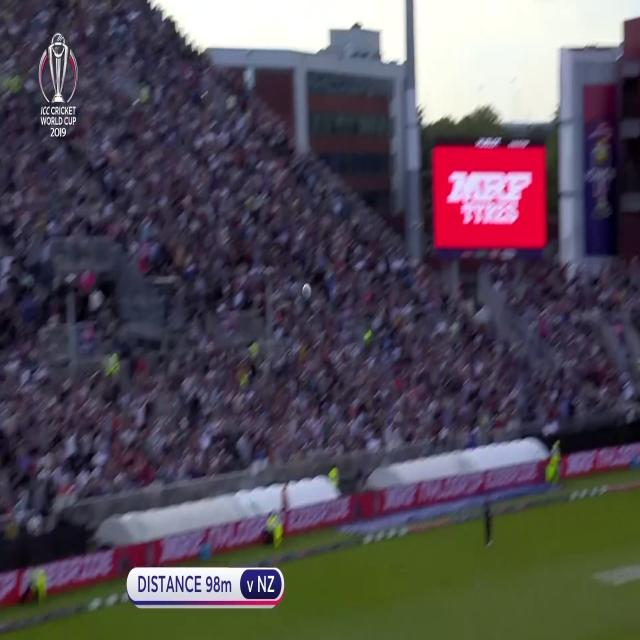ball: (300, 285, 313, 305)
